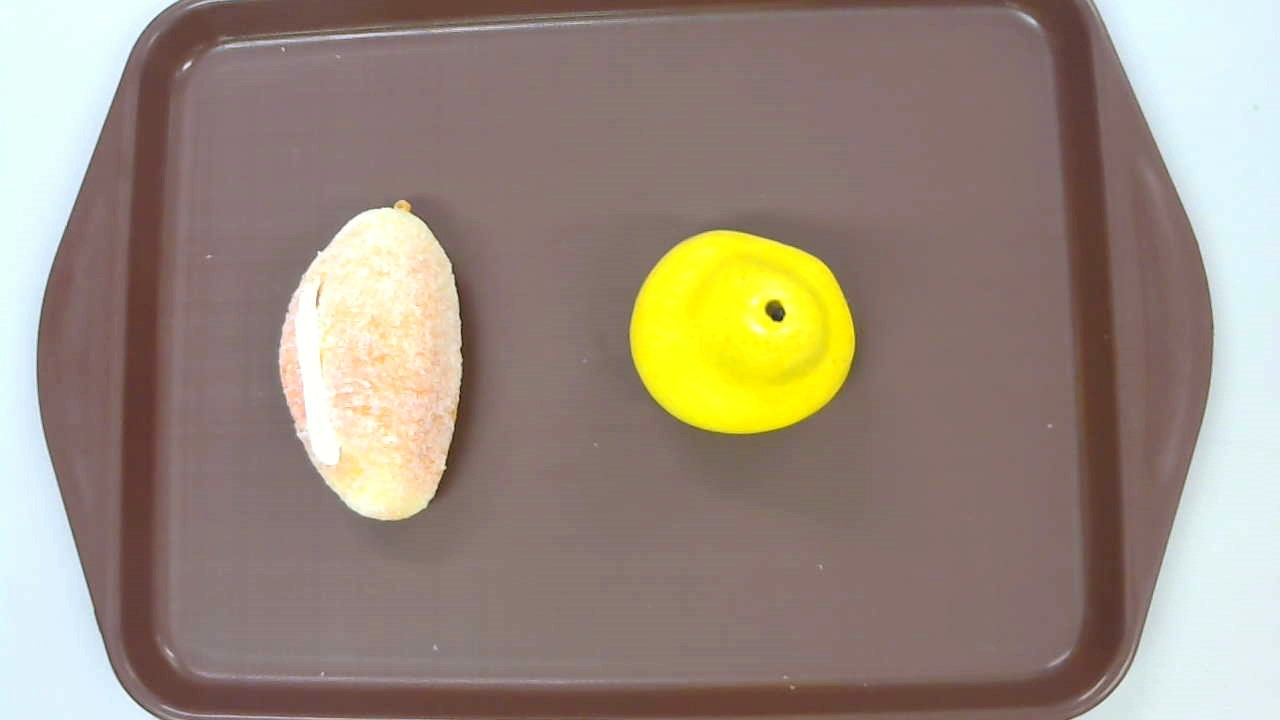coconut: (278, 200, 463, 522)
yellow pear: (630, 229, 856, 434)
